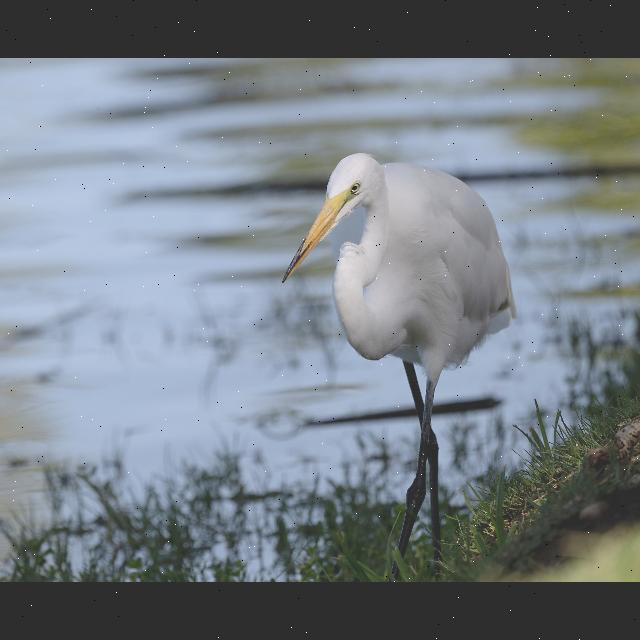egret: (278, 146, 524, 524)
